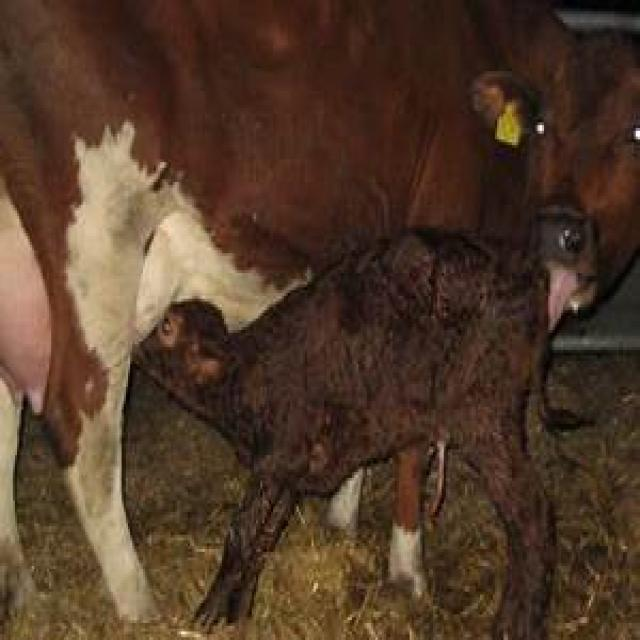animal: (0, 0, 638, 605), (136, 228, 566, 580)
